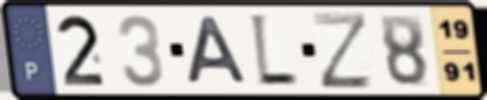2: (54, 12, 107, 88)
3: (116, 12, 165, 88)
8: (378, 12, 432, 90)
A: (184, 14, 251, 87)
L: (246, 10, 301, 90)
Z: (309, 10, 376, 91)
